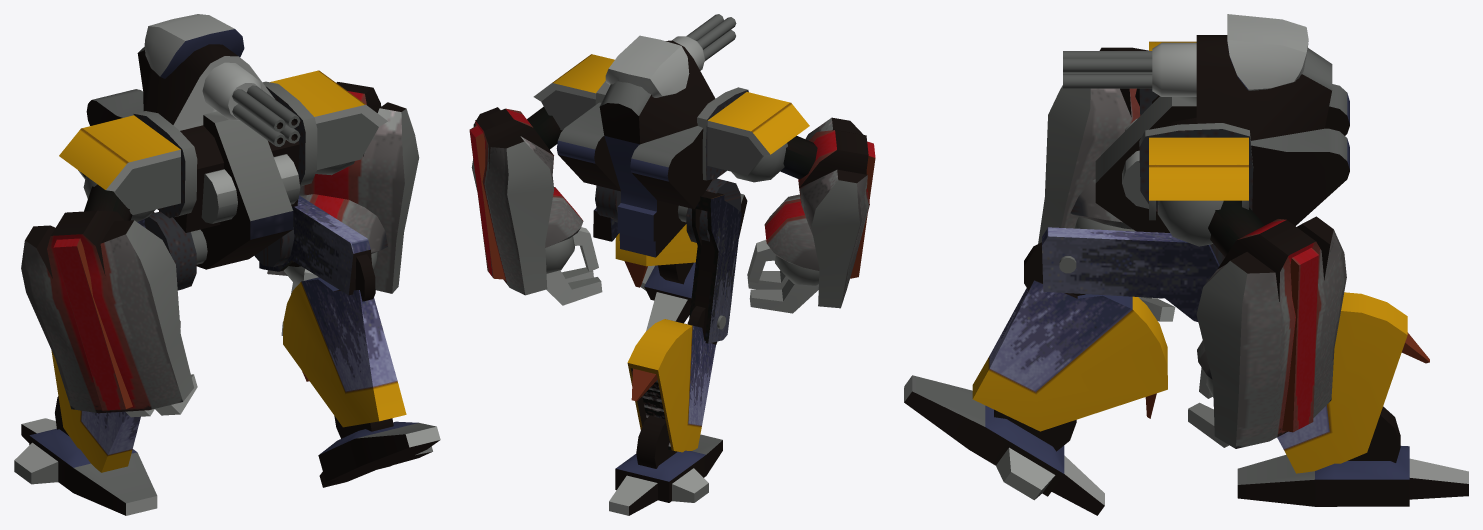
The model's file is npc_sec2bot_000019.obj.
3 views of the same model, side by side, from view 1: azimuth 30°, elevation 25°; view 2: azimuth 150°, elevation 25°; view 3: azimuth 270°, elevation 25° (orthographic). The views are drawn at different scales.
Visible parts, largest first — view 1: npc_sec2bot_npc_sec2bot_meshdata; view 2: npc_sec2bot_npc_sec2bot_meshdata; view 3: npc_sec2bot_npc_sec2bot_meshdata.
Part boxes in pixels (x1,y1,x2,y2): npc_sec2bot_npc_sec2bot_meshdata: [14, 14, 440, 515]; npc_sec2bot_npc_sec2bot_meshdata: [469, 14, 875, 515]; npc_sec2bot_npc_sec2bot_meshdata: [904, 14, 1468, 515].
Bounding box in the file's own units: 2.19 × 2.28 × 2.34.
